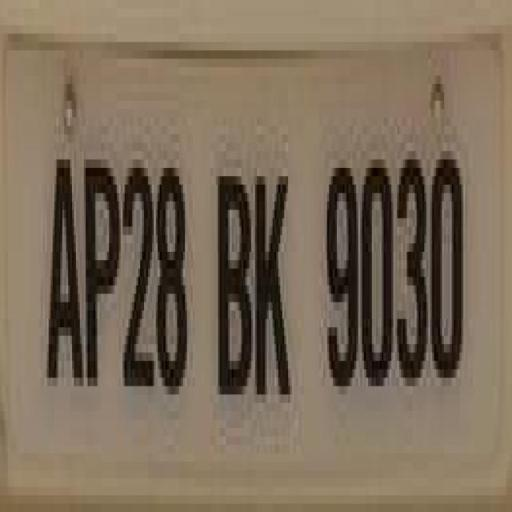number plate: (11, 33, 512, 512)
